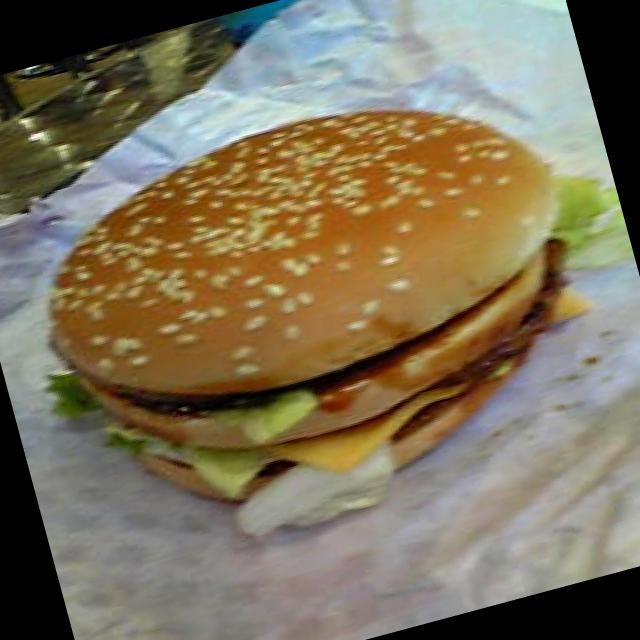Hamburger: (0, 45, 634, 590)
